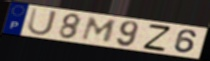6: (173, 29, 198, 55)
8: (58, 13, 83, 40)
9: (114, 20, 142, 48)
M: (80, 16, 119, 44)
U: (26, 7, 59, 37)
Z: (141, 23, 173, 52)
